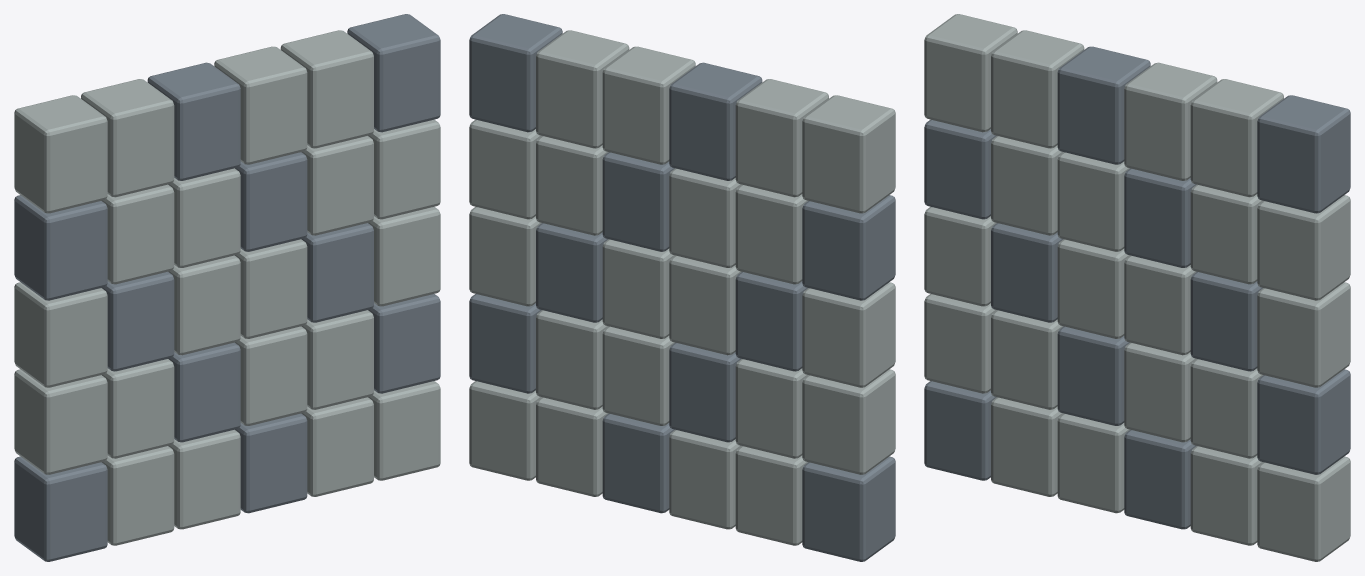
The model's file is stone_wall.glb.
3 views of the same model, side by side, from view 1: azimuth 30°, elevation 25°; view 2: azimuth 150°, elevation 25°; view 3: azimuth 330°, elevation 25° (orthographic).
Parts seen in each view (by area): view 1: stone_wall; view 2: stone_wall; view 3: stone_wall.
Part boxes in pixels (left/top/right/bottom): stone_wall: left=14, top=14, right=440, bottom=561; stone_wall: left=469, top=14, right=895, bottom=561; stone_wall: left=924, top=14, right=1350, bottom=561.
Bounding box in the file's own units: 2.38 × 2.48 × 0.35.
